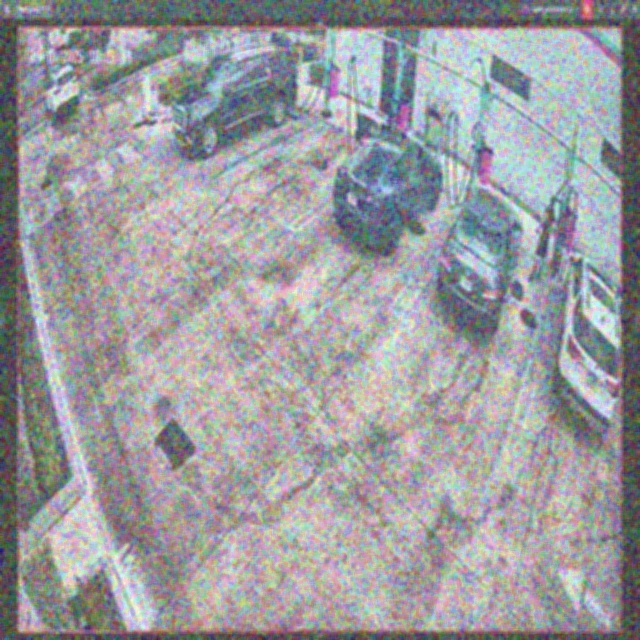Car: (334, 122, 442, 250), (440, 187, 521, 332)
